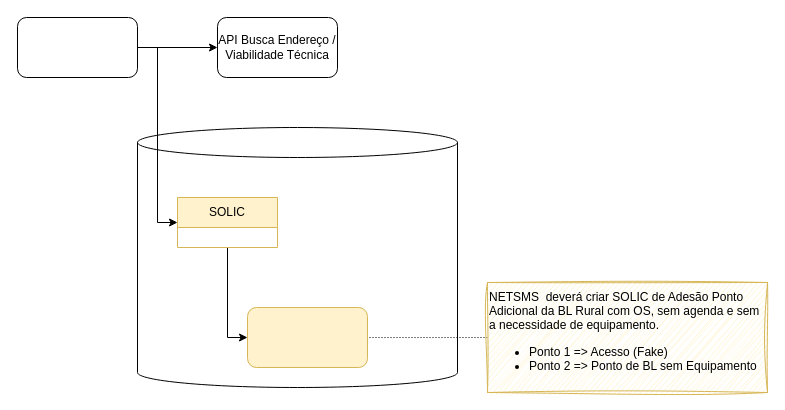
Some shapes in this 785 by 410 pixel diagram are drawn without their labels. Each missing label, with the centre of its shape:
NETSALES/ NETSMS: pixel 77 47
Trigger Criação OS: pixel 307 337
